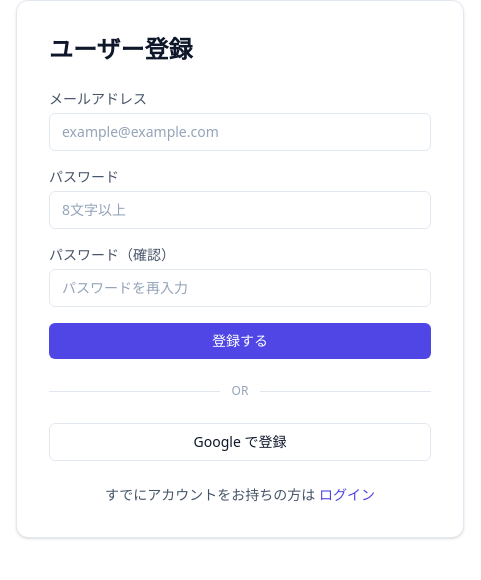
Test: RegisterForm › メールアドレスのバリデーションエラー表示
In the field labelled "メールアドレス": (240, 132) [49, 113, 431, 151], type "invalid-email"
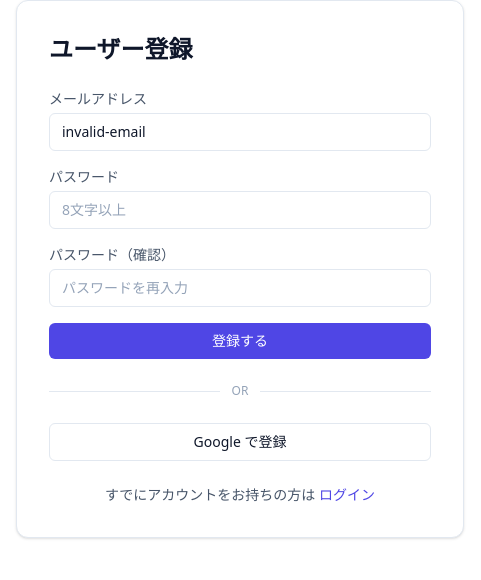
In the password field labelled "パスワード": (240, 210) [49, 191, 431, 229], type "password123"
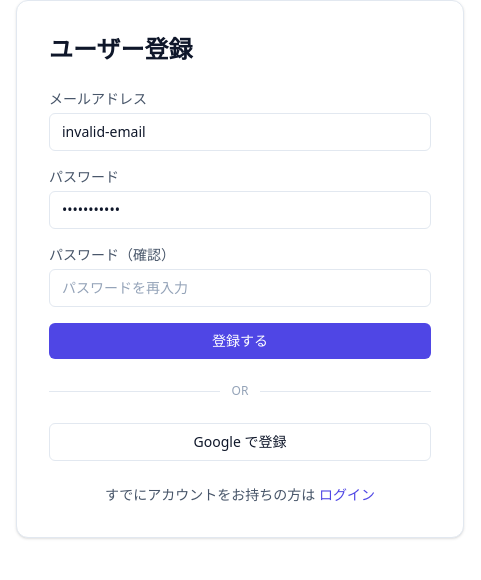
In the password field labelled "パスワード（確認）": (240, 288) [49, 269, 431, 307], type "password123"
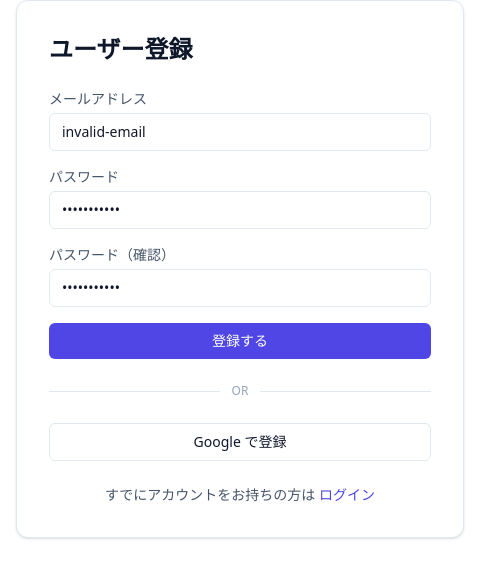
Submit the text "登録する", box [49, 89, 431, 359]
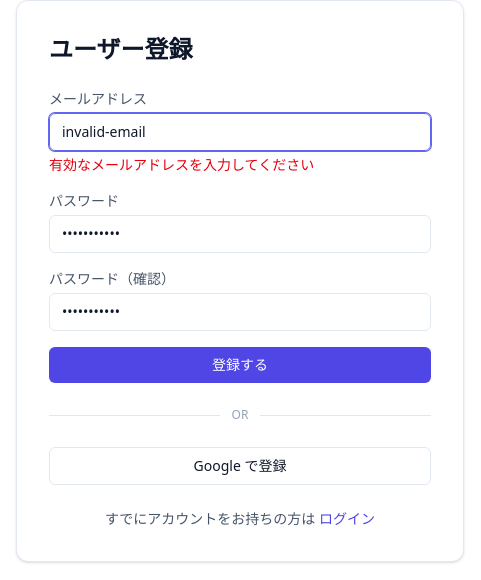
Now the text "有効なメールアドレスを入力してください" is shown, box [49, 155, 314, 174]
